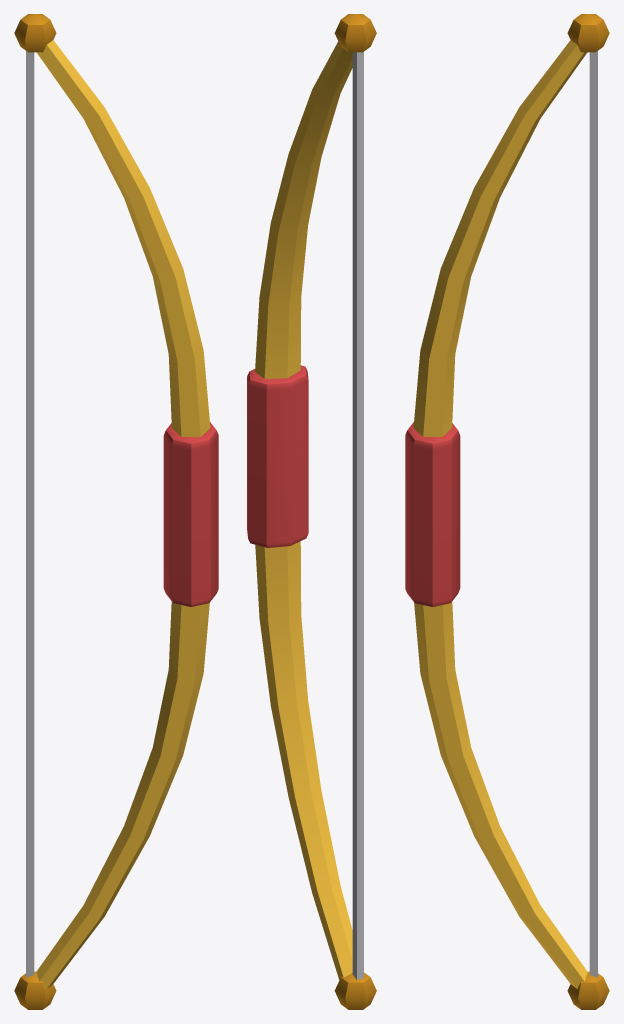
The model's file is GoldBow.fbx.
3 views of the same model, side by side, from view 1: azimuth 90°, elevation 25°; view 2: azimuth 210°, elevation 25°; view 3: azimuth 270°, elevation 25° (orthographic).
Parts seen in each view (by area): view 1: GoldBow; view 2: GoldBow; view 3: GoldBow.
Part boxes in pixels (x1,y1,x2,y2): GoldBow: (14,14,218,1009); GoldBow: (247,14,376,1009); GoldBow: (405,14,609,1009).
Size of the model in its own units: 0.26 by 4.16 by 0.774.
1 material, 1 textured.
